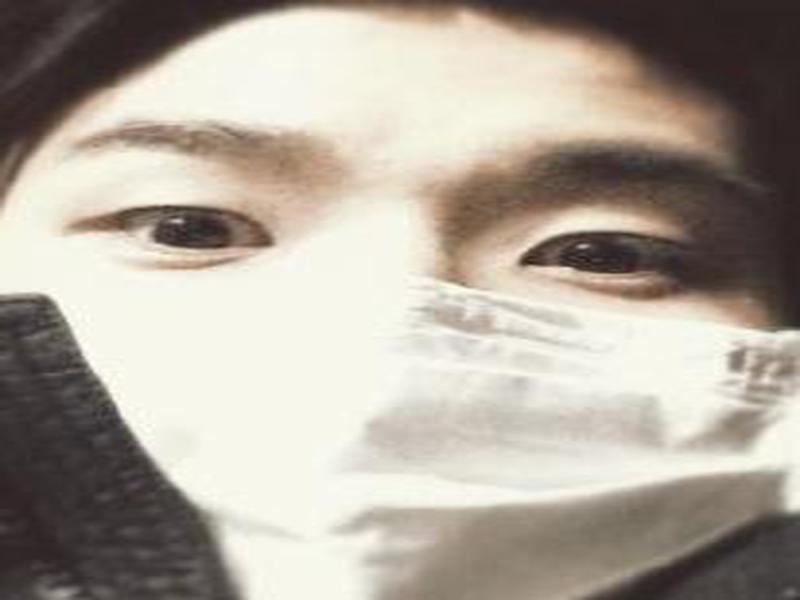with_mask: (1, 17, 791, 600)
